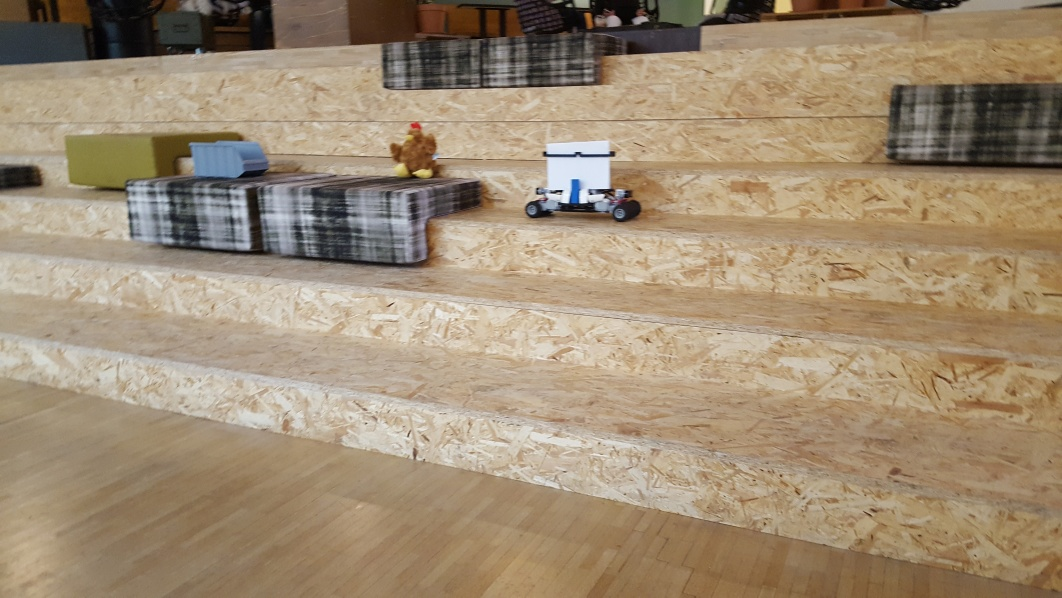beam: (568, 178, 579, 206)
chicken: (388, 123, 441, 179)
tray: (186, 139, 271, 176)
